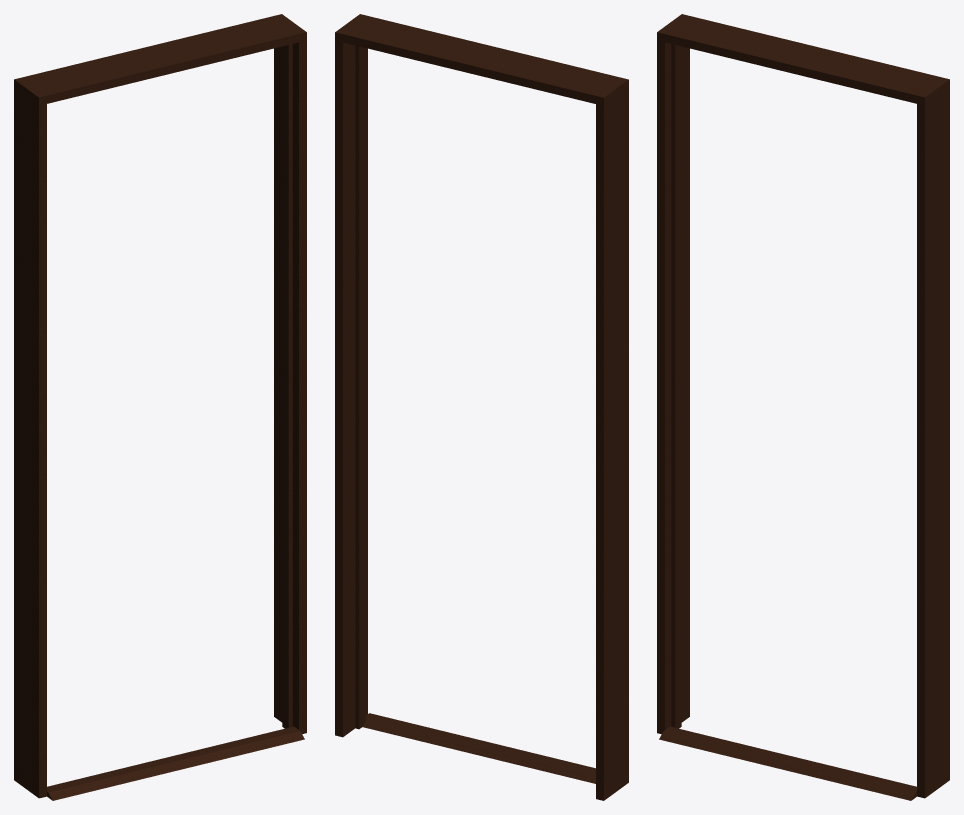
Rendered from SM_RearDoorFrame_Final_05.fbx.
The picture shows the model from 3 angles, left to right: view 1: azimuth 30°, elevation 25°; view 2: azimuth 150°, elevation 25°; view 3: azimuth 330°, elevation 25°; orthographic projection.
Parts seen in each view (by area): view 1: DoorFrame_02; view 2: DoorFrame_02; view 3: DoorFrame_02.
Boxes of the visible parts, left/top/right/bottom form: DoorFrame_02: left=14, top=14, right=306, bottom=800; DoorFrame_02: left=335, top=14, right=628, bottom=800; DoorFrame_02: left=657, top=14, right=949, bottom=800.
Bounding box in the file's own units: 33.47 × 6.71 × 83.66.
1 material, 1 textured.
